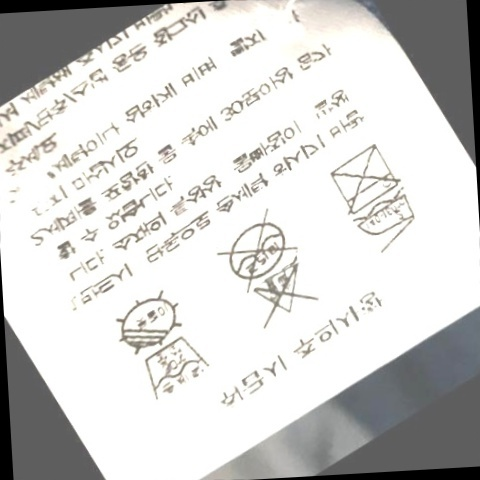DN_dry_clean: (215, 212, 291, 282)
DN_wash: (320, 146, 400, 207)
hand_wash: (136, 339, 213, 406)
iron_medium: (351, 195, 422, 251)
line_dry_in_shade: (106, 286, 185, 357)
non_chlorine_bleach: (241, 265, 313, 326)
